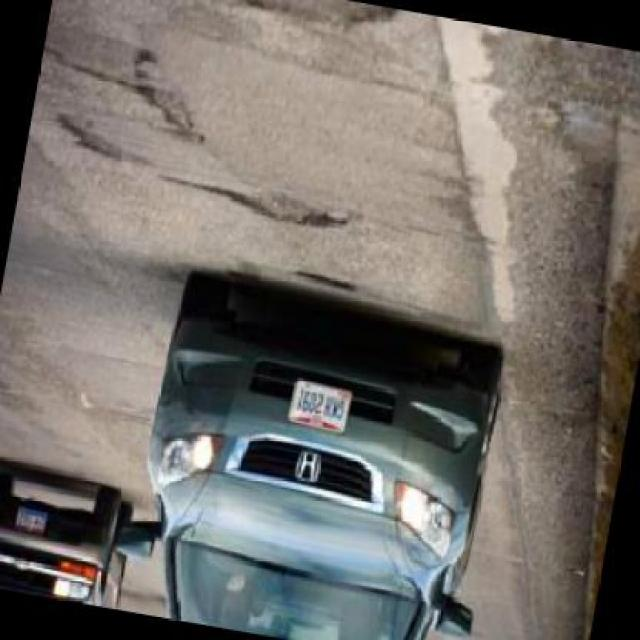pothole1: (132, 0, 406, 43), (229, 178, 357, 239)
